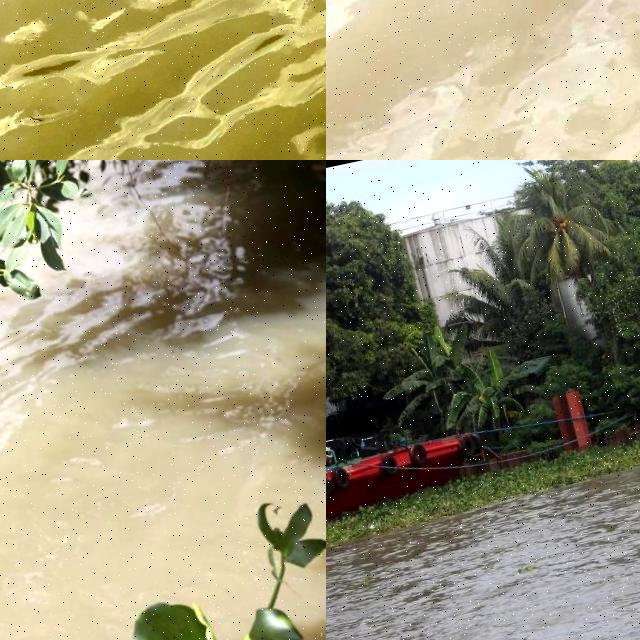water-hyacinth: (327, 406, 640, 579), (1, 494, 327, 640)
